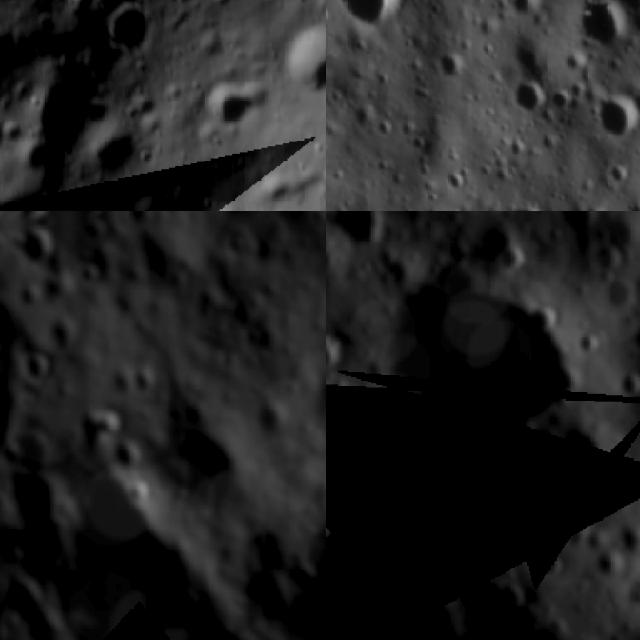crater: (351, 238, 608, 476), (172, 421, 261, 527), (326, 356, 386, 488), (88, 0, 157, 72), (501, 480, 572, 549), (77, 114, 137, 186), (199, 72, 262, 136), (278, 13, 326, 93), (582, 458, 637, 522), (576, 0, 638, 56), (326, 211, 364, 299), (293, 360, 326, 460), (590, 89, 640, 147), (339, 0, 410, 37), (398, 516, 449, 567), (10, 222, 60, 274), (594, 266, 640, 319), (504, 74, 548, 128), (599, 211, 640, 261), (16, 349, 58, 395), (126, 360, 168, 401), (118, 476, 162, 514), (104, 440, 146, 478), (12, 278, 50, 318), (71, 256, 108, 296), (494, 236, 534, 273), (593, 544, 631, 582), (44, 317, 80, 357), (494, 578, 530, 614), (326, 326, 347, 379), (574, 324, 605, 358), (615, 524, 640, 566), (614, 367, 640, 401), (129, 197, 173, 211), (89, 213, 136, 224)
